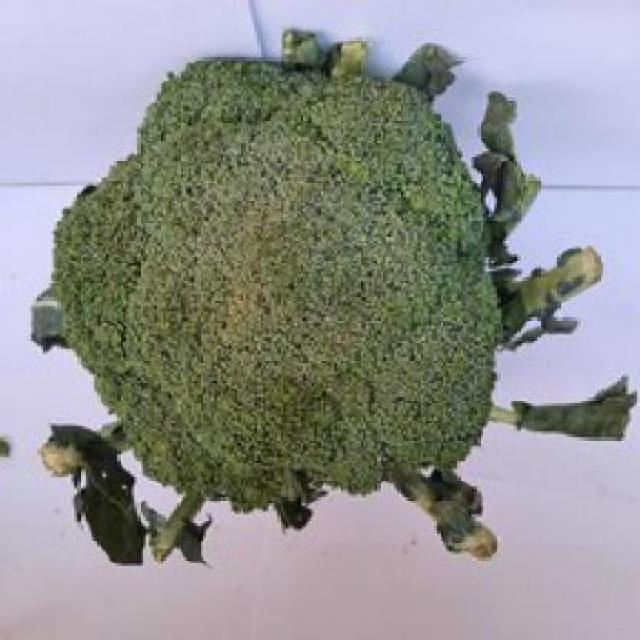broccoli: (43, 60, 548, 518)
